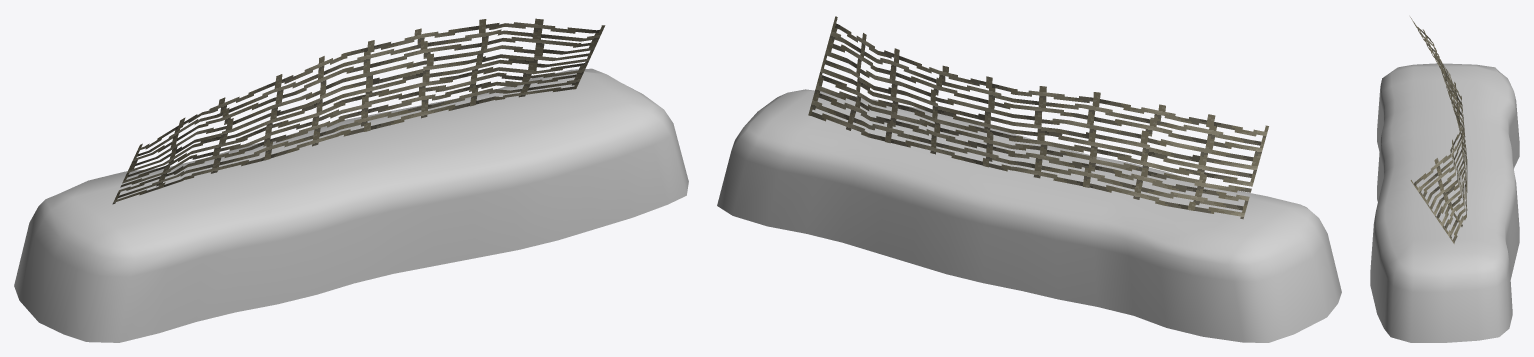
Rendered from wattle2.fbx.
3 views of the same model, side by side, from view 1: azimuth 30°, elevation 25°; view 2: azimuth 150°, elevation 25°; view 3: azimuth 270°, elevation 25° (orthographic). The views are drawn at different scales.
Parts seen in each view (by area): view 1: Cube.122; view 2: Cube.122; view 3: Cube.122.
Part boxes in pixels (x1,y1,x2,y2): Cube.122: [14, 18, 688, 342]; Cube.122: [717, 16, 1341, 342]; Cube.122: [1370, 17, 1519, 342].
Bounding box in the file's own units: 863 × 245 × 237.
